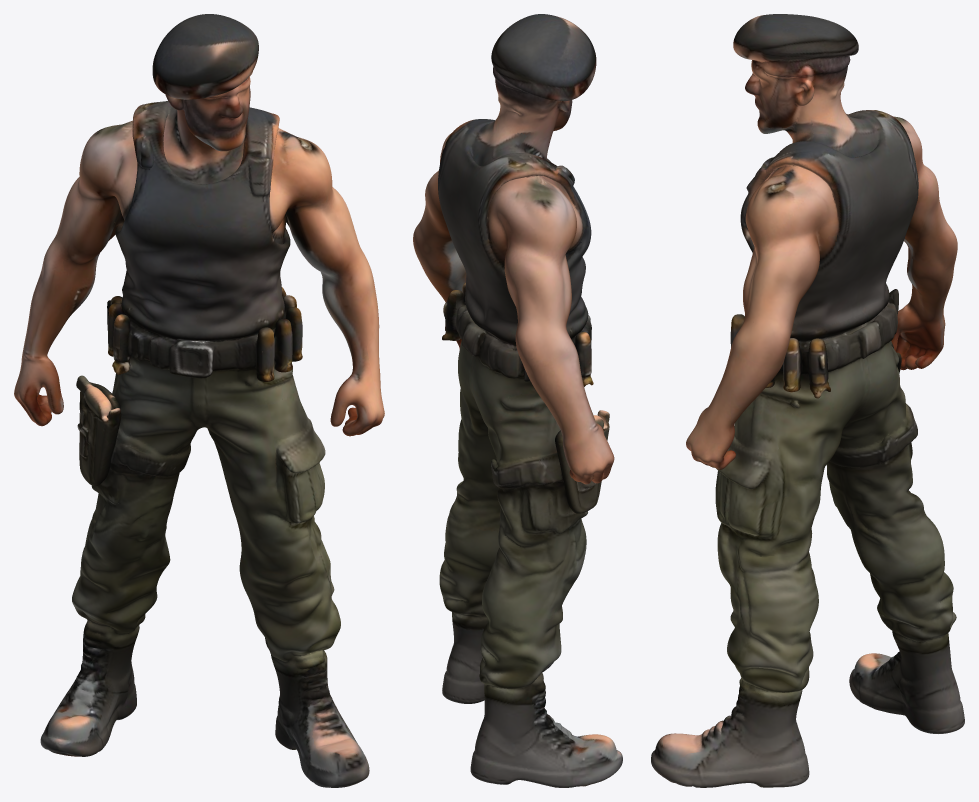
Rendered from najemnicy.glb.
3 renders of one model, left to right at view 1: azimuth 30°, elevation 25°; view 2: azimuth 150°, elevation 25°; view 3: azimuth 270°, elevation 25°, orthographic. The views are drawn at different scales.
Visible parts, largest first — view 1: tripo_node_ea9b4621-5461-49fd-91b0-6fd6afcdb4b2; view 2: tripo_node_ea9b4621-5461-49fd-91b0-6fd6afcdb4b2; view 3: tripo_node_ea9b4621-5461-49fd-91b0-6fd6afcdb4b2.
Boxes of the visible parts, box(x1,y1,x2,y2) form: tripo_node_ea9b4621-5461-49fd-91b0-6fd6afcdb4b2: box(14, 14, 384, 787); tripo_node_ea9b4621-5461-49fd-91b0-6fd6afcdb4b2: box(413, 14, 622, 787); tripo_node_ea9b4621-5461-49fd-91b0-6fd6afcdb4b2: box(651, 14, 964, 787).
Bounding box in the file's own units: 0.3932 × 1 × 0.3909.
Materials: 1 (1 with a texture image).
